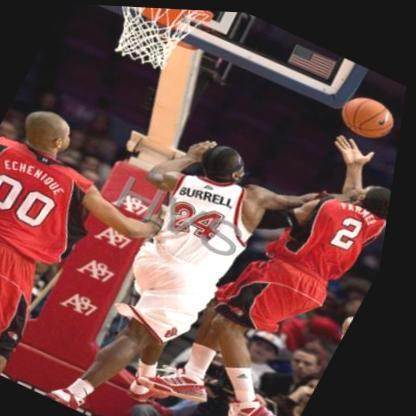basketball: (334, 84, 405, 141)
